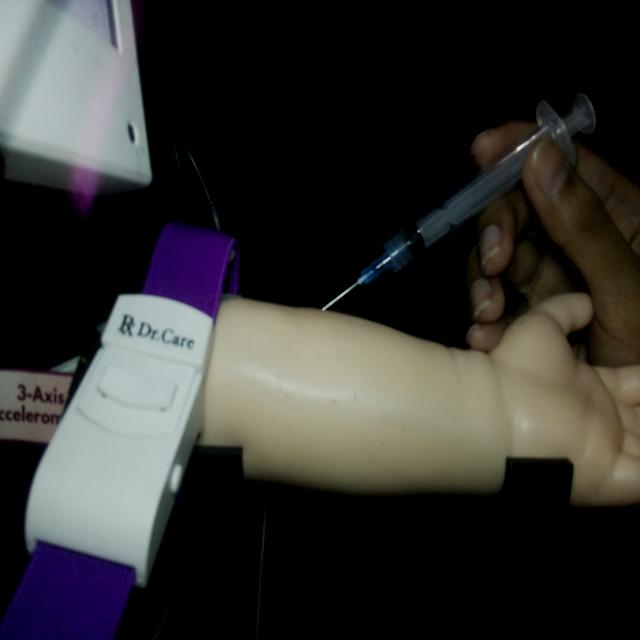28 degrees: (320, 88, 597, 314)
